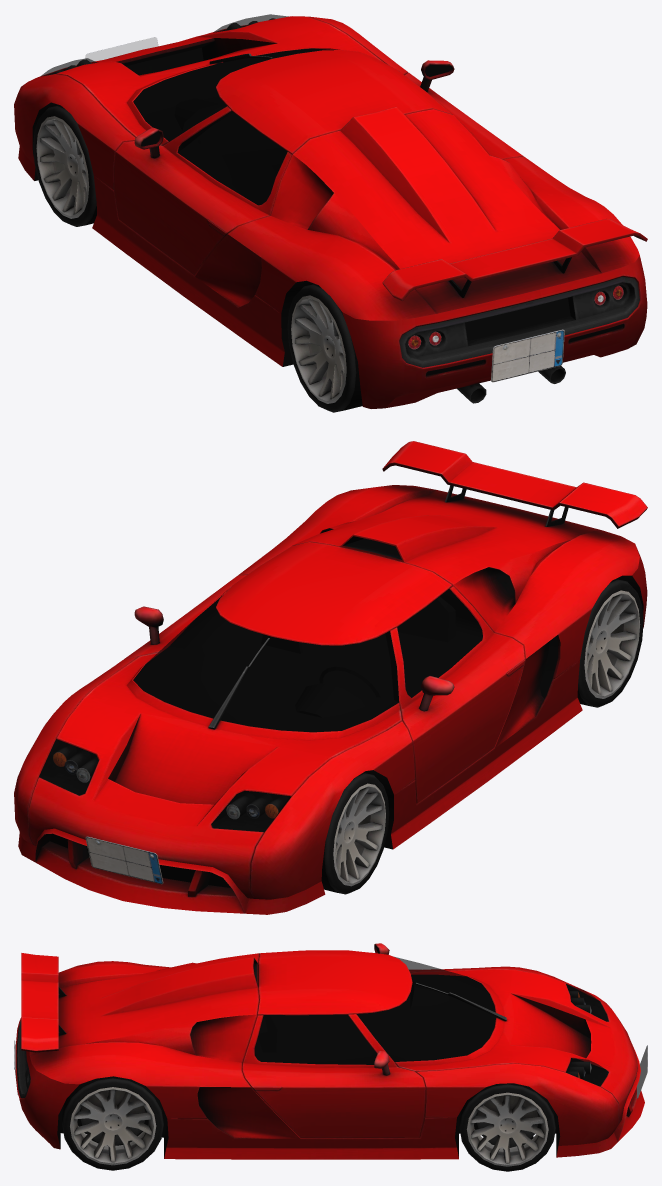
File: sport.glb
3 views of the same model, one above another, from view 1: azimuth 30°, elevation 25°; view 2: azimuth 150°, elevation 25°; view 3: azimuth 270°, elevation 25° (orthographic). The views are drawn at different scales.
Visible parts, largest first — view 1: Sport body_Body_0, Sport body_Glass_0, Tire_RL_0, Tire_FL_0, LicensePlate_Rear, LicensePlate_Front; view 2: Sport body_Body_0, Sport body_Glass_0, Tire_RL_0, Tire_FL_0, LicensePlate_Front, Sport body_Optics_0; view 3: Sport body_Body_0, Sport body_Glass_0, Tire_RR_0, Tire_FR_0.
Part boxes in pixels (x1,y1,x2,y2): Sport body_Body_0: (14,16,647,408); Sport body_Glass_0: (40,14,339,204); Tire_RL_0: (287,283,362,412); Tire_FL_0: (33,105,96,226); LicensePlate_Rear: (491,329,564,382); LicensePlate_Front: (85,37,158,61); Sport body_Body_0: (14,441,647,914); Sport body_Glass_0: (39,589,482,831); Tire_RL_0: (577,578,643,707); Tire_FL_0: (321,772,389,894); LicensePlate_Front: (85,836,163,884); Sport body_Optics_0: (53,752,278,819); Sport body_Body_0: (15,943,644,1159); Sport body_Glass_0: (255,957,608,1086); Tire_RR_0: (62,1076,163,1170); Tire_FR_0: (459,1083,555,1171).
Bounding box in the file's own units: 1.77 × 1.04 × 3.94.
6 materials, 4 textured.
